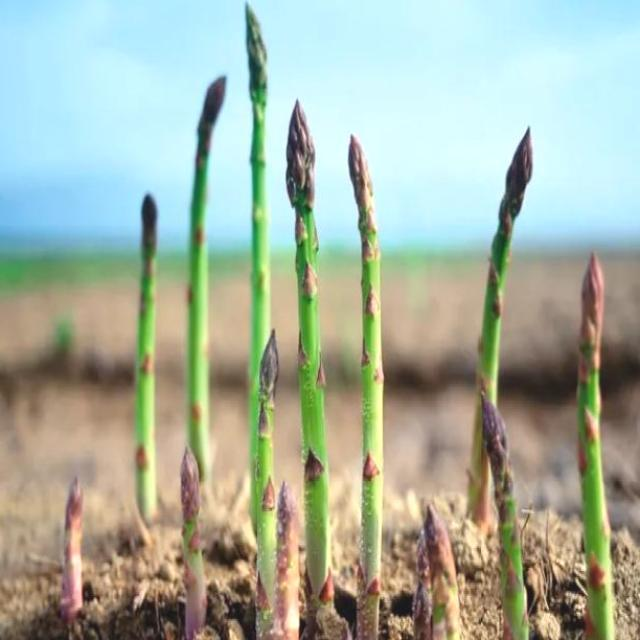aspargus: (288, 103, 330, 626), (348, 135, 385, 640), (474, 377, 538, 640), (576, 254, 616, 640), (135, 195, 159, 513), (181, 451, 206, 640), (59, 476, 85, 629)
